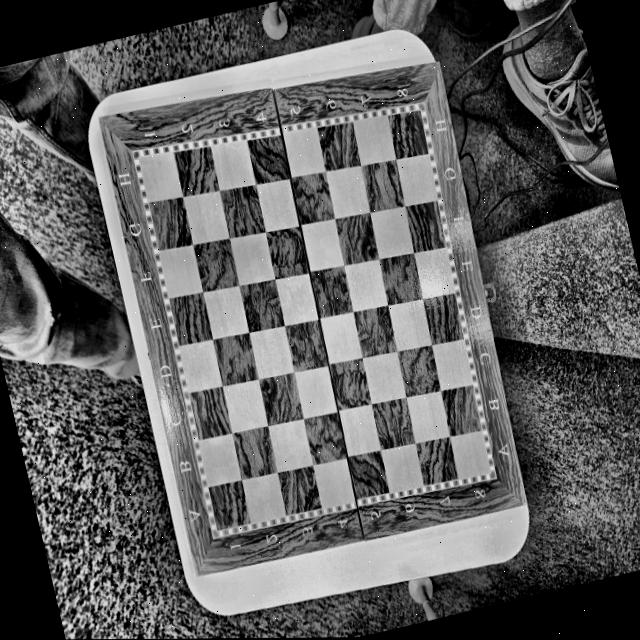chessboard: (130, 99, 497, 537)
p1: (214, 522, 222, 531)
p2: (484, 466, 494, 477)
p3: (414, 104, 424, 114)
p4: (134, 151, 144, 163)
